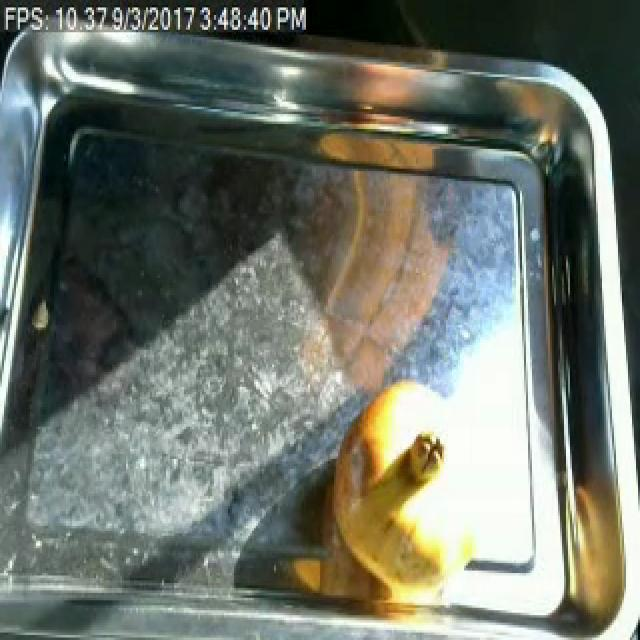fruit: (320, 364, 492, 598)
